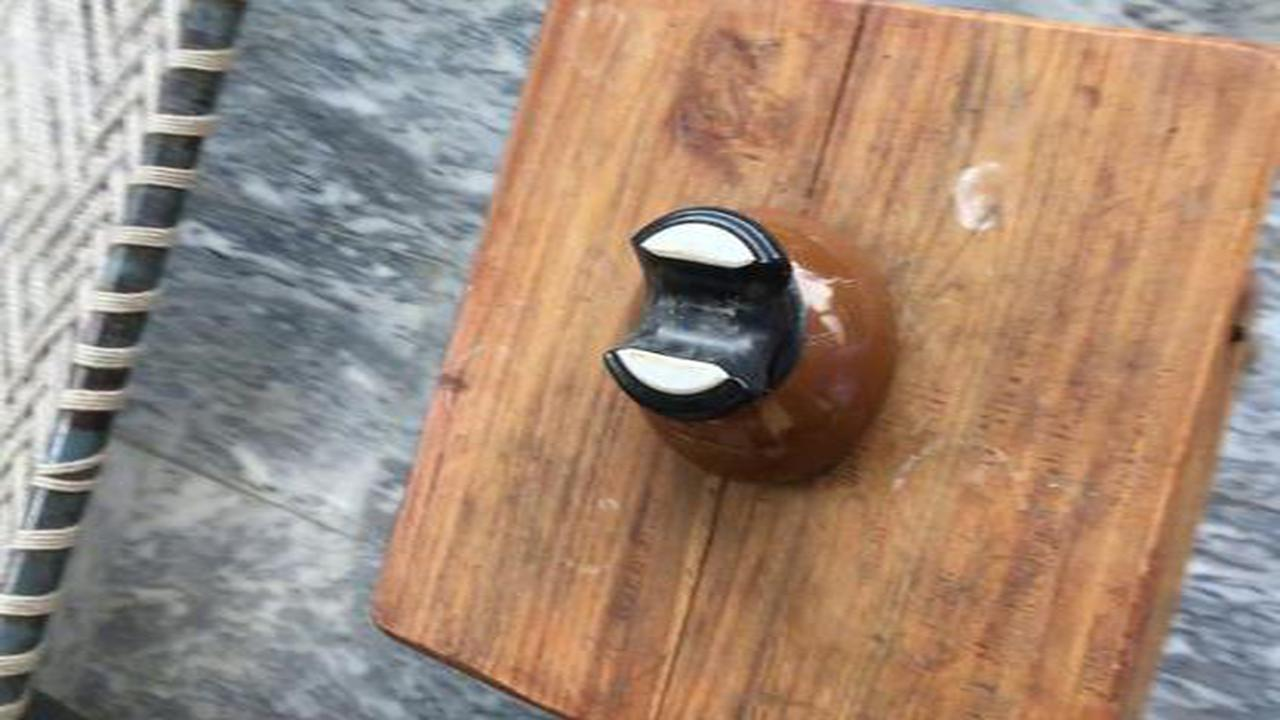insulator_pin: (588, 184, 917, 508)
